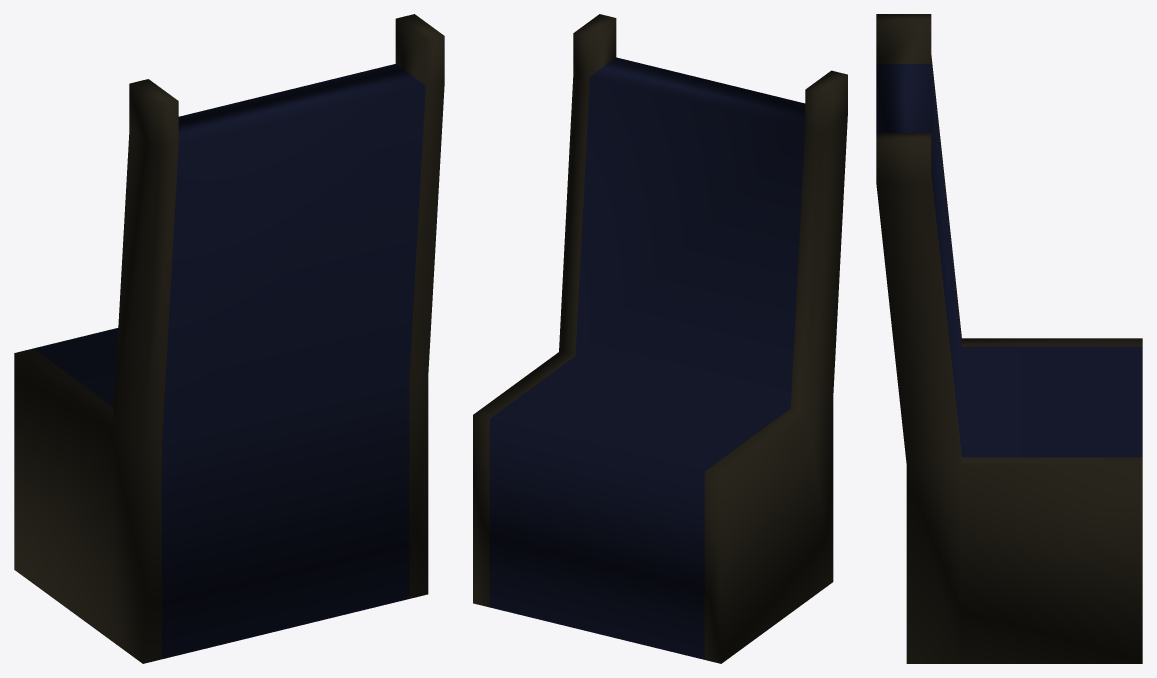
The model's file is Chair Big.fbx.
The picture shows the model from 3 angles, left to right: view 1: azimuth 30°, elevation 25°; view 2: azimuth 150°, elevation 25°; view 3: azimuth 270°, elevation 25°; orthographic projection. The views are drawn at different scales.
Visible parts, largest first — view 1: presOffBlackWall01001Rev.003; view 2: presOffBlackWall01001Rev.003; view 3: presOffBlackWall01001Rev.003.
Part boxes in pixels (box(x1,y1,x2,y2)): presOffBlackWall01001Rev.003: box(14, 14, 444, 663); presOffBlackWall01001Rev.003: box(473, 14, 847, 663); presOffBlackWall01001Rev.003: box(876, 14, 1142, 663).
Size of the model in its own units: 0.634 by 1.21 by 0.56.
